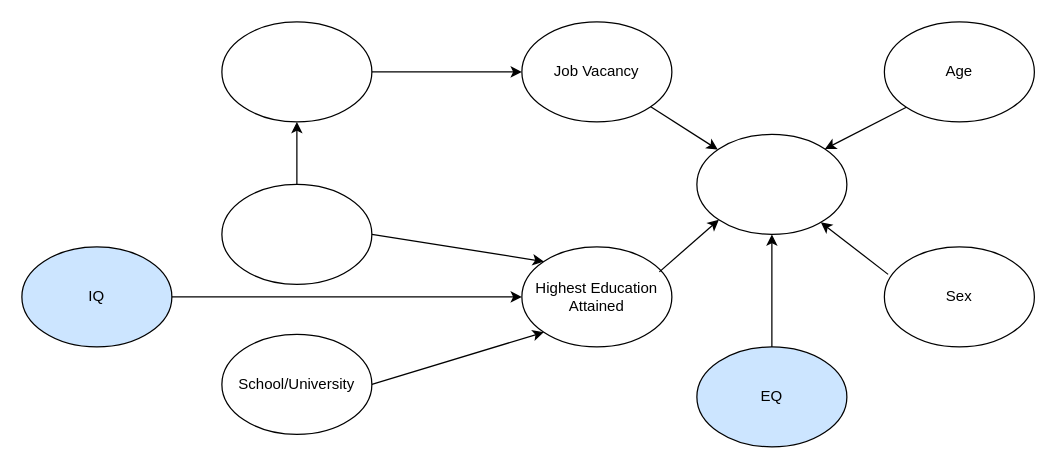
Some shapes in this 1056 by 469 pixel diagram are drawn without their labels. The shapes that lost their labels are listed below. From the top down, each one's box as (x1, y1, x2, y2) in pixels, then its label:
(221, 21, 372, 122): Desired Occupation/ Industry
(696, 133, 847, 234): Duration of Unemployment
(221, 183, 372, 284): Major/Degree
